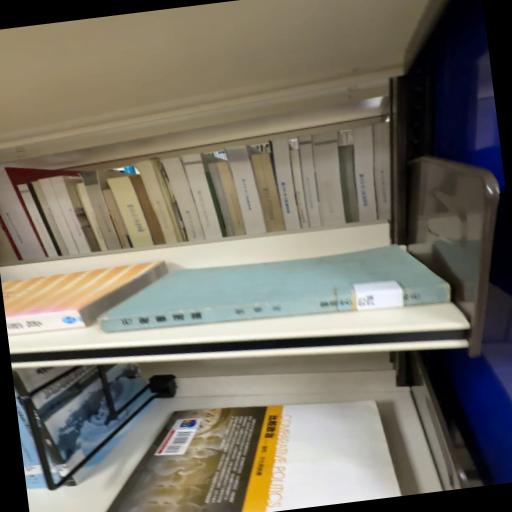flat: (105, 400, 402, 512), (98, 245, 450, 332), (1, 261, 168, 335)
